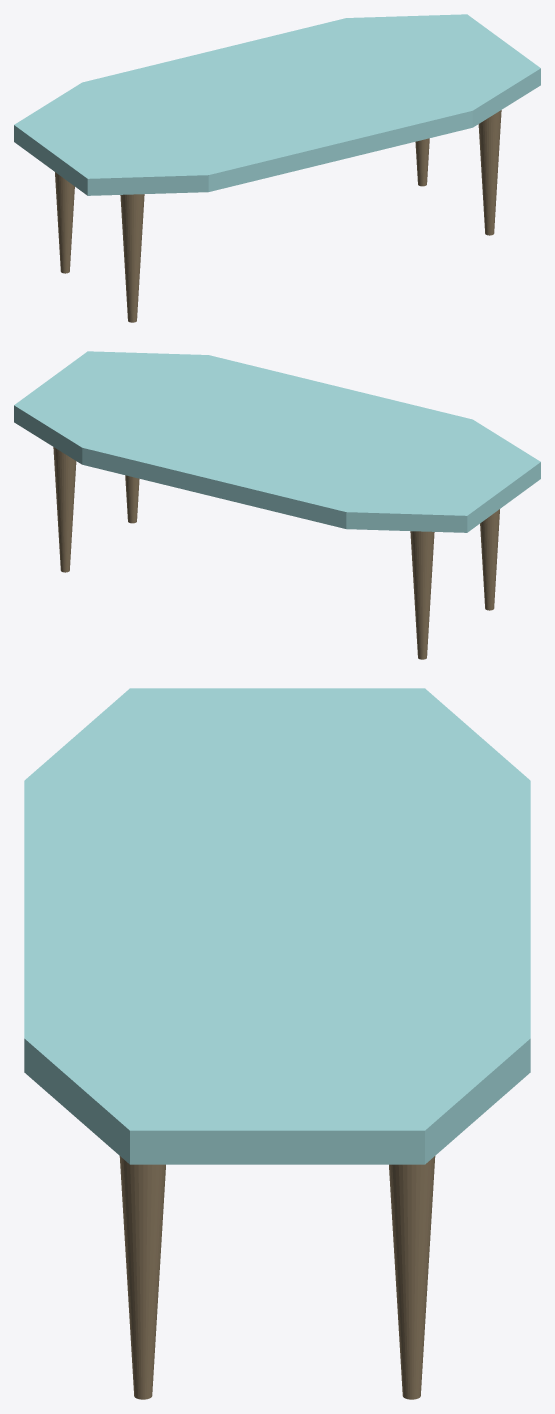
The model's file is Table.fbx.
3 renders of one model, top to bottom at view 1: azimuth 30°, elevation 25°; view 2: azimuth 150°, elevation 25°; view 3: azimuth 270°, elevation 25°, orthographic. The views are drawn at different scales.
Parts seen in each view (by area): view 1: Table; view 2: Table; view 3: Table.
Part boxes in pixels (x1,y1,x2,y2): Table: [14, 14, 540, 322]; Table: [14, 351, 540, 659]; Table: [24, 688, 530, 1399].
Bounding box in the file's own units: 5.13 × 1.69 × 2.48.
